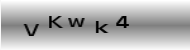4: (115, 14, 130, 30)
K: (47, 15, 64, 29)
V: (23, 23, 41, 37)
k: (94, 20, 110, 35)
w: (66, 16, 86, 28)
